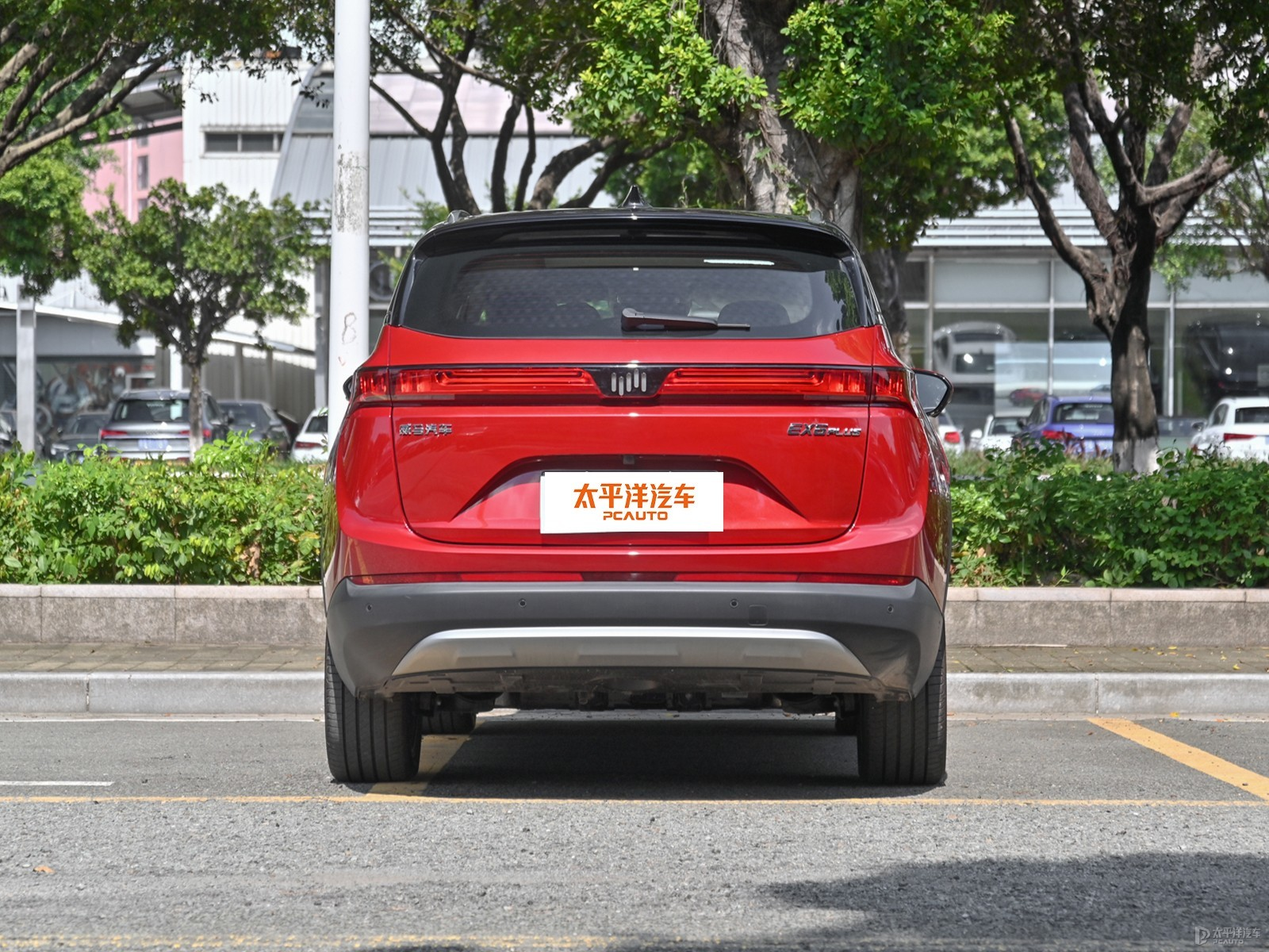WELTMEISTER: (612, 370, 646, 394)
